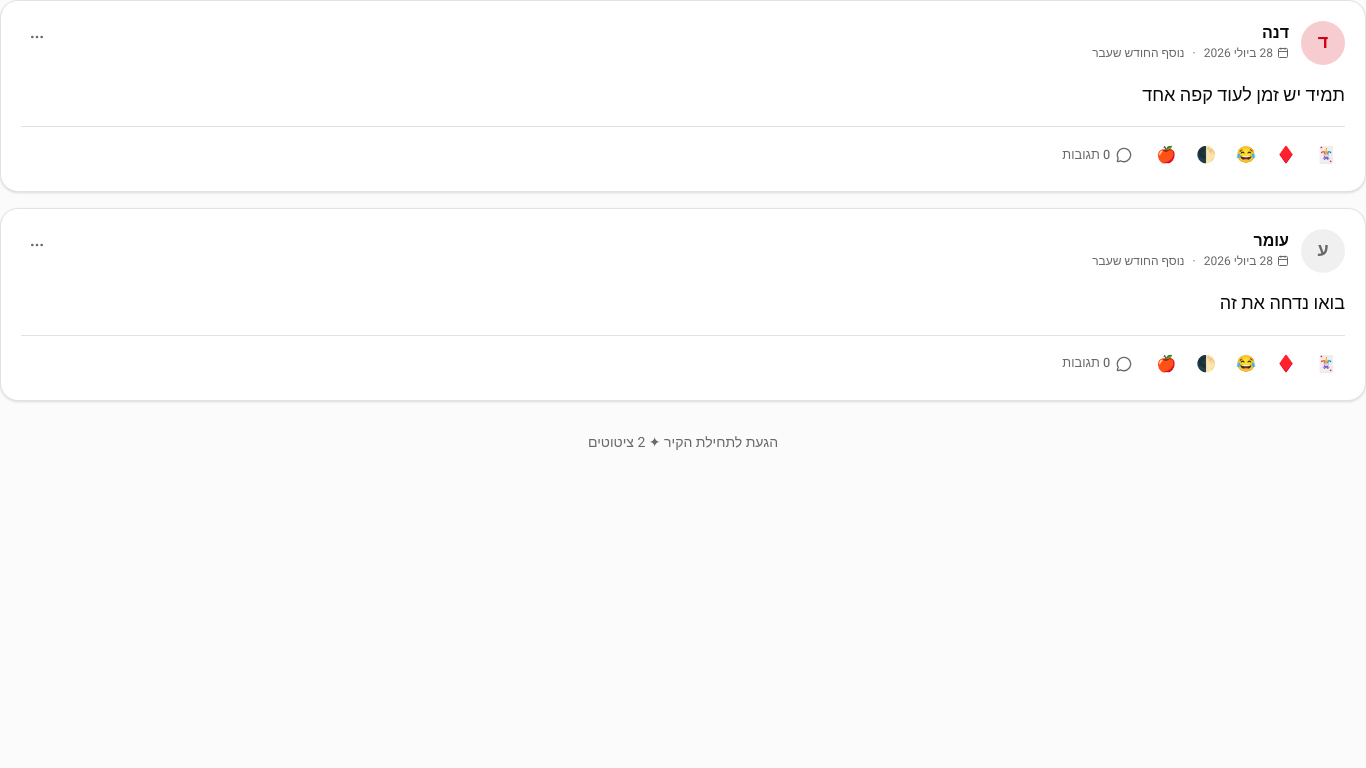
QuoteFeed › refreshes the list after a card is deleted
Click the button named "אפשרויות נוספות" in the row of "עומר".
click(37, 245)  # box [21,229,53,261]
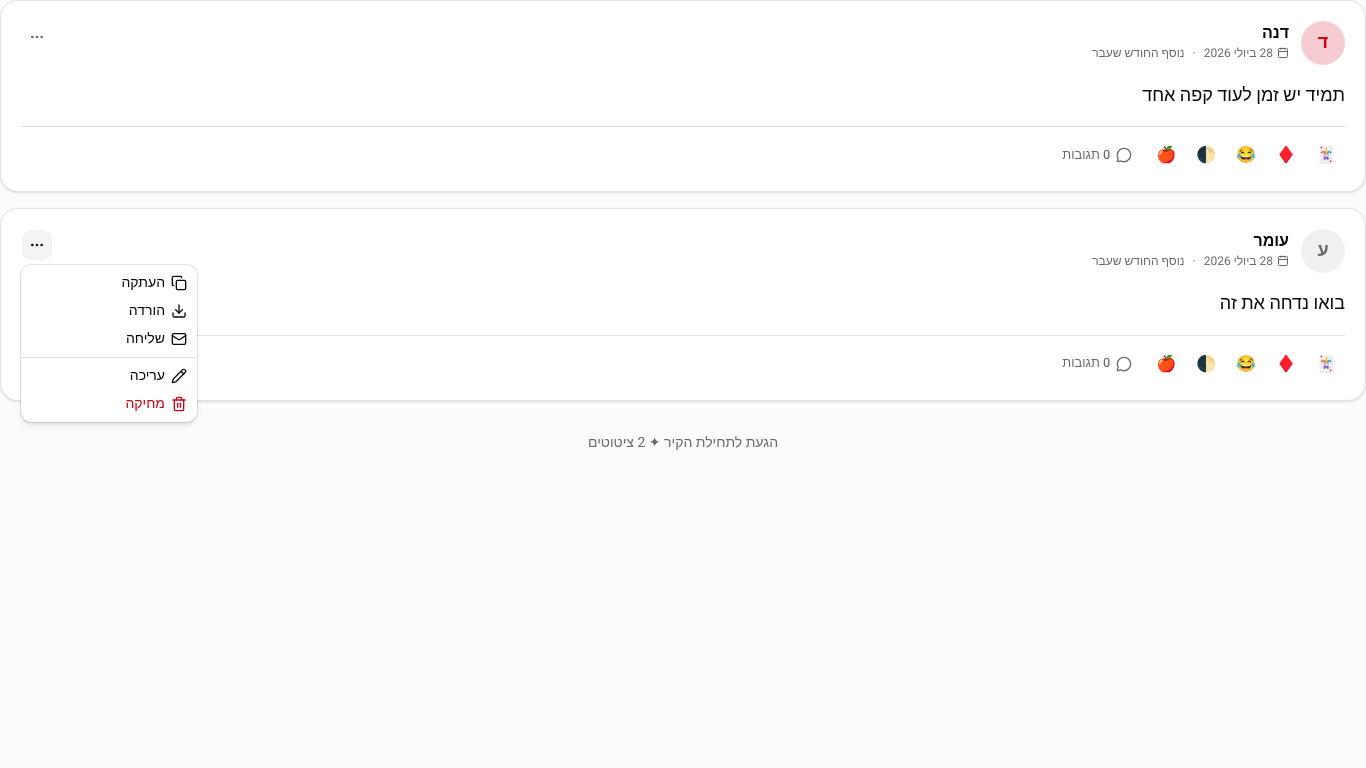
Click the menu item "מחיקה".
click(156, 404)  # box [125,393,187,414]
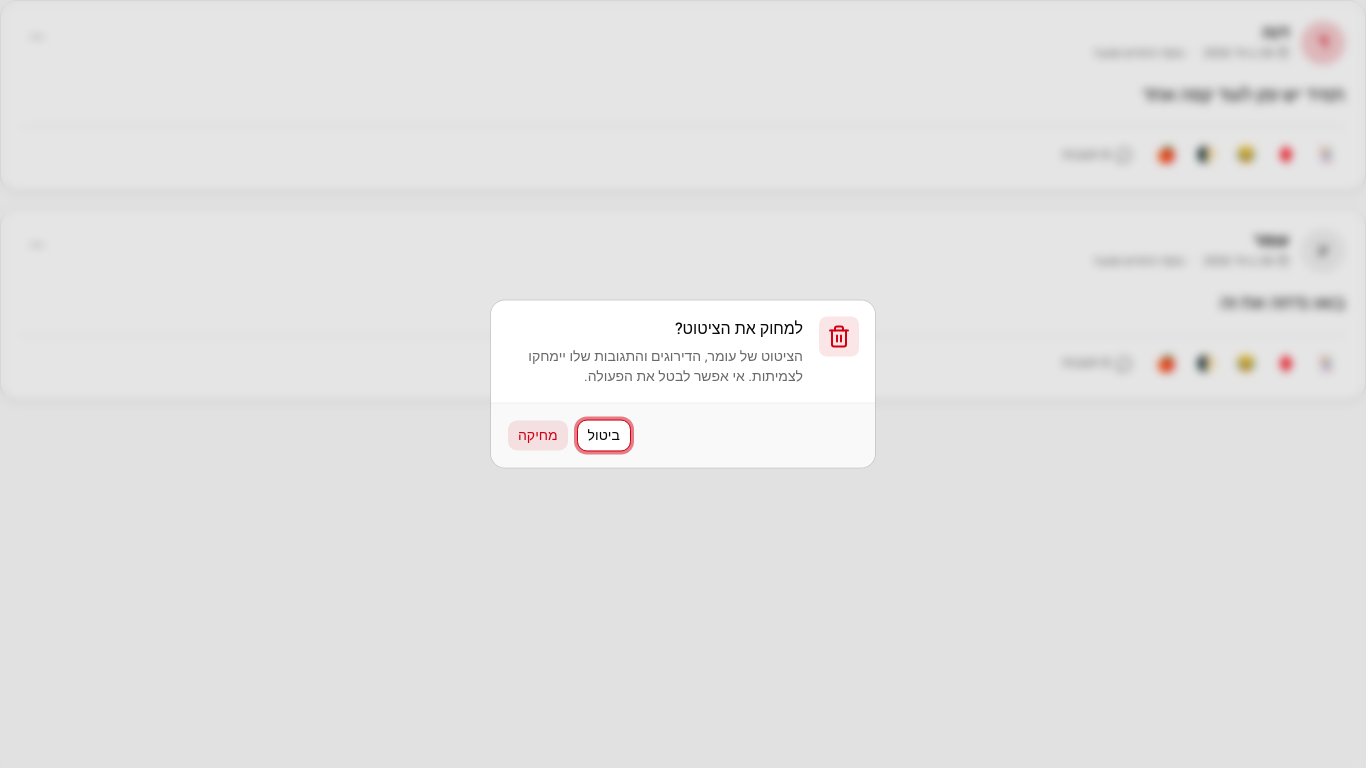
Click the button "מחיקה".
click(538, 436)  # box [507,420,569,452]
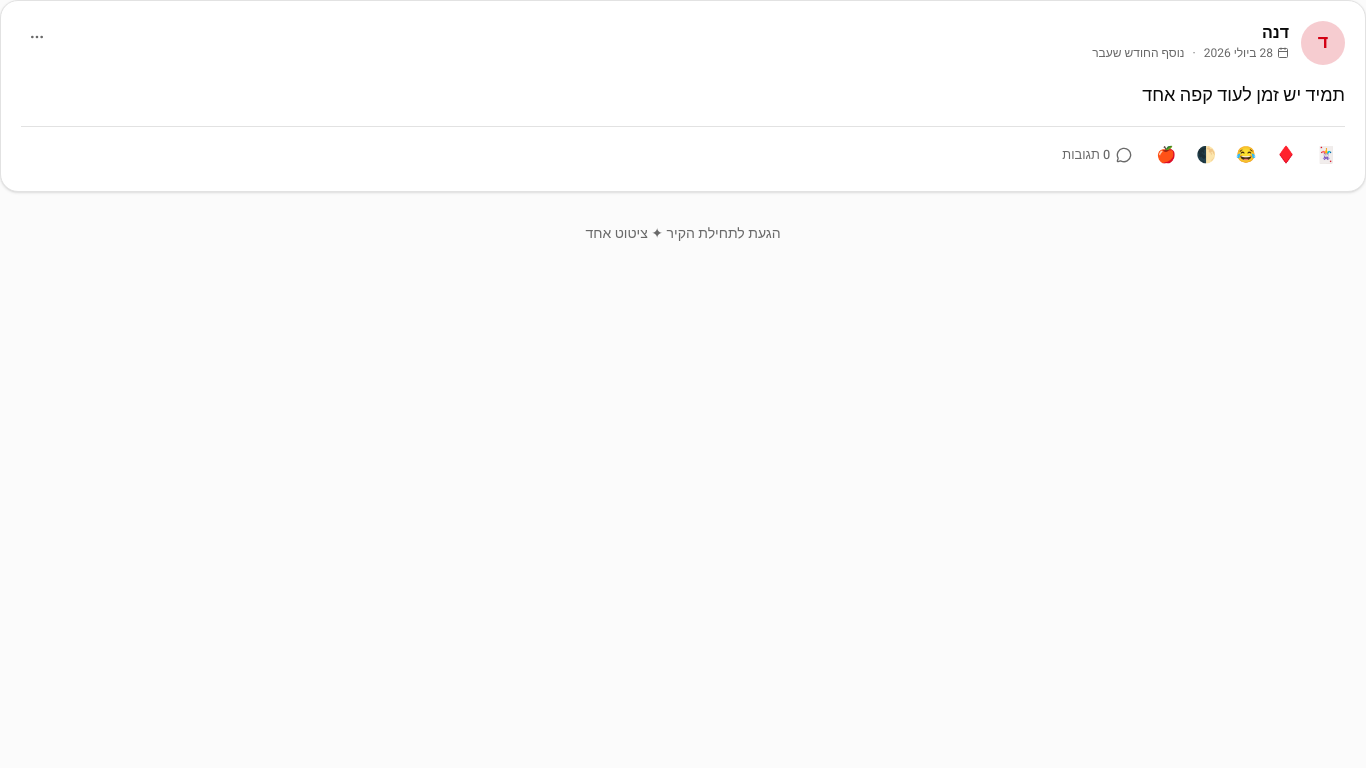
Now the text "בואו נדחה את זה" is gone
